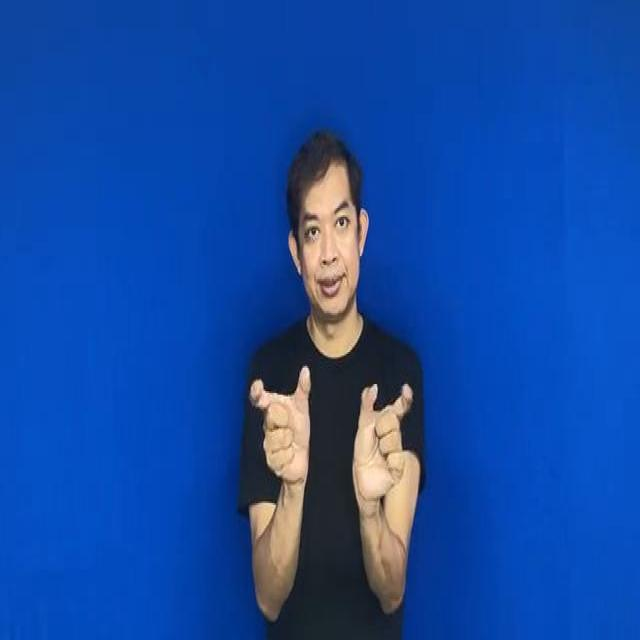crab: (231, 358, 420, 508)
